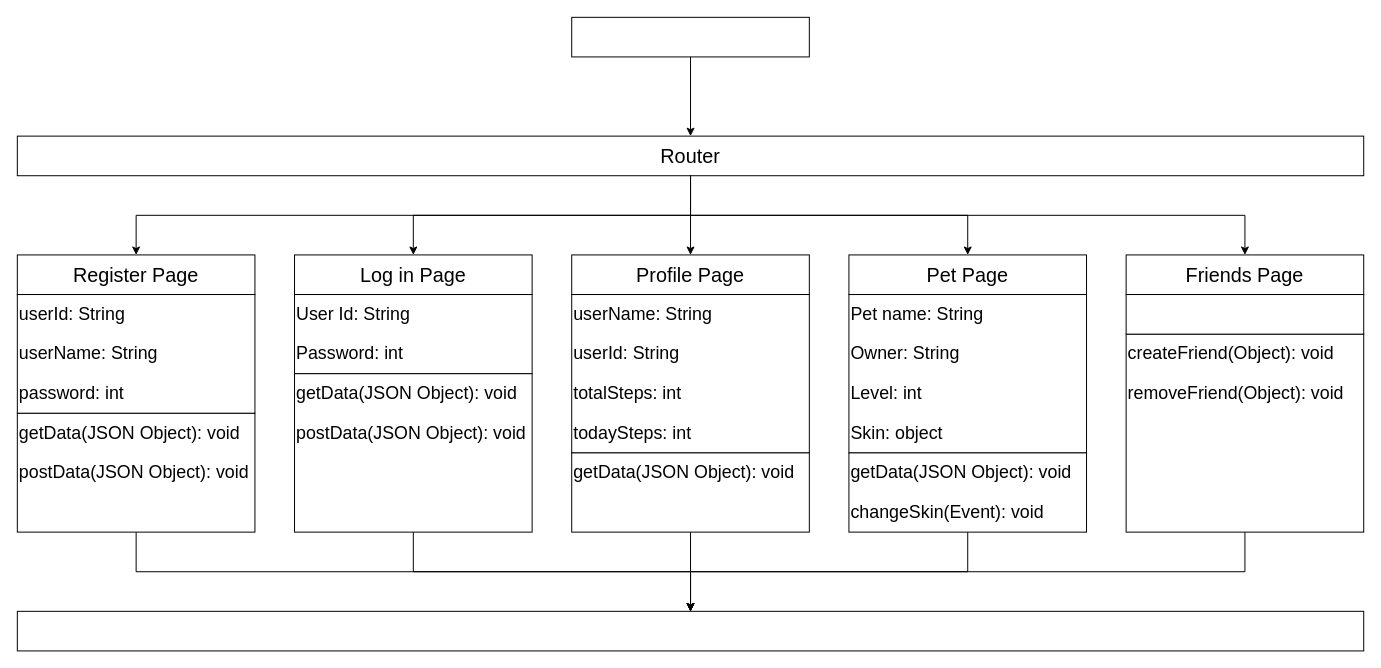
Some shapes in this 1381 by 668 pixel diagram are drawn without their labels. Each missing label, with the centre of its shape:
friendsList: Object: point 1244,314
Index Page: point 690,36
Store: point 690,630
